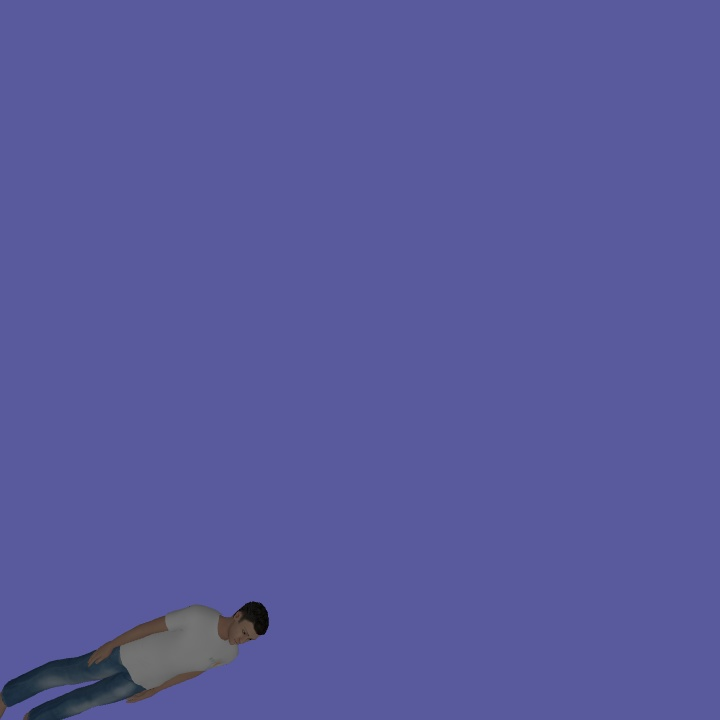victim: (1, 598, 271, 716)
